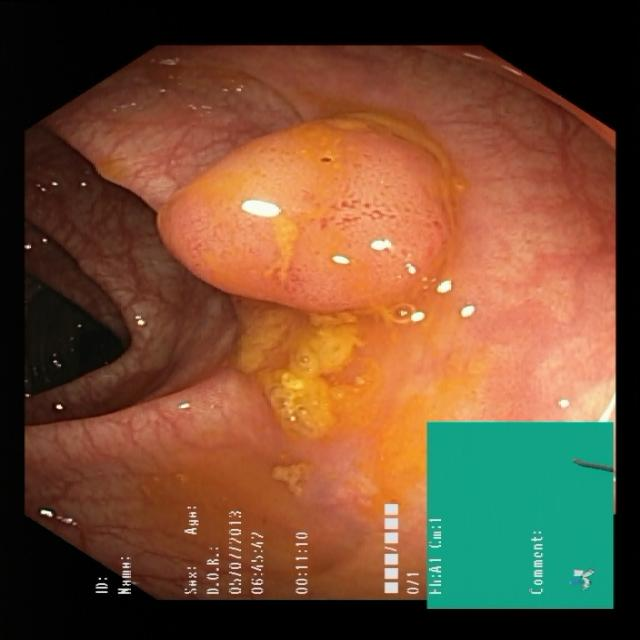Polyps: (151, 104, 458, 317), (227, 291, 381, 456)
